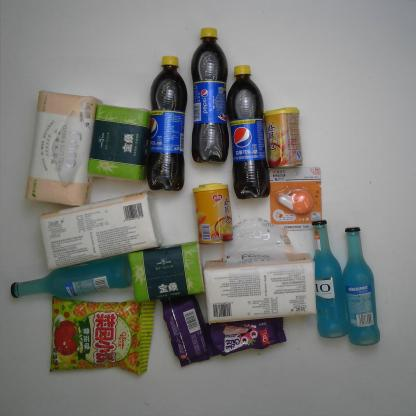Alcohol: (10, 255, 132, 303), (342, 224, 380, 348), (310, 218, 348, 341)
Canned Food: (191, 182, 234, 248), (262, 106, 304, 170)
Dessert: (159, 287, 214, 369), (202, 314, 288, 357)
Drink: (226, 63, 271, 200), (190, 27, 232, 165), (146, 54, 188, 192)
Puffed Food: (46, 295, 158, 377)
Stationery: (266, 164, 324, 232)
Tissue: (201, 216, 321, 328), (38, 189, 162, 271), (25, 88, 103, 209), (85, 102, 148, 183), (126, 241, 206, 304)
